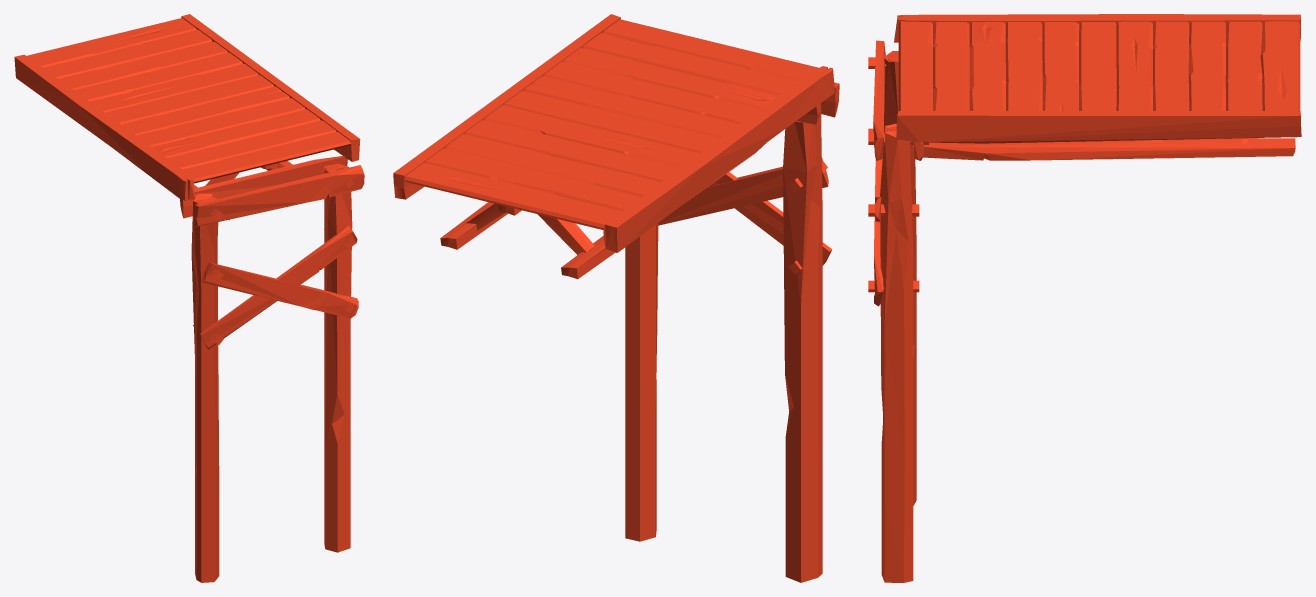
The model's file is SM_Pier_Long_City.fbx.
The picture shows the model from 3 angles, left to right: view 1: azimuth 30°, elevation 25°; view 2: azimuth 150°, elevation 25°; view 3: azimuth 270°, elevation 25°; orthographic projection. The views are drawn at different scales.
Parts seen in each view (by area): view 1: SM_Pier_Long_City; view 2: SM_Pier_Long_City; view 3: SM_Pier_Long_City.
Part boxes in pixels (x1=…): SM_Pier_Long_City: x1=14, y1=14, x2=364, y2=582; SM_Pier_Long_City: x1=393, y1=14, x2=839, y2=582; SM_Pier_Long_City: x1=868, y1=14, x2=1301, y2=582.
Size of the model in its own units: 3 by 6.53 by 5.39.
